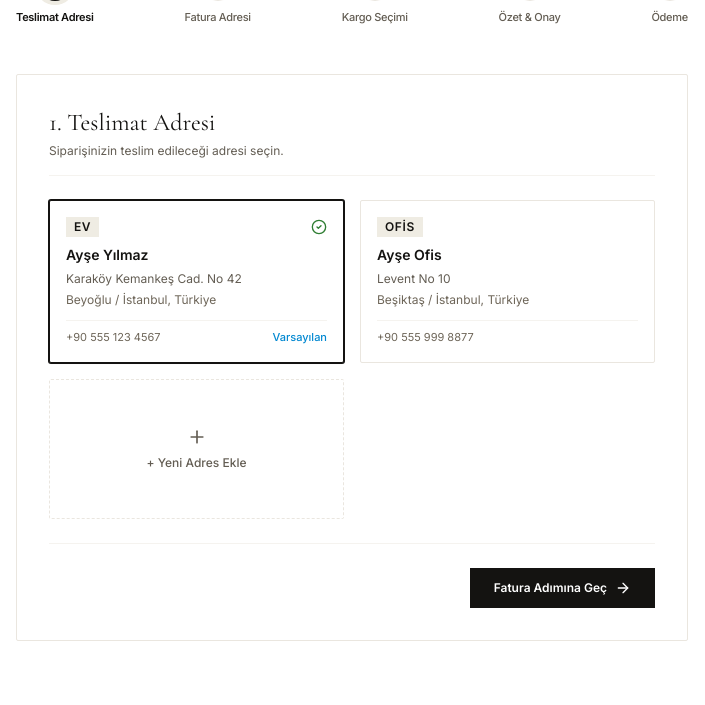
CheckoutPage Component › renders free shipping badge and step 3 navigation back to billing
(page scrolled)
Click the button "Fatura Adımına Geç" at [562, 588], box top-left (470, 568), bottom-right (655, 608)
(page scrolled)
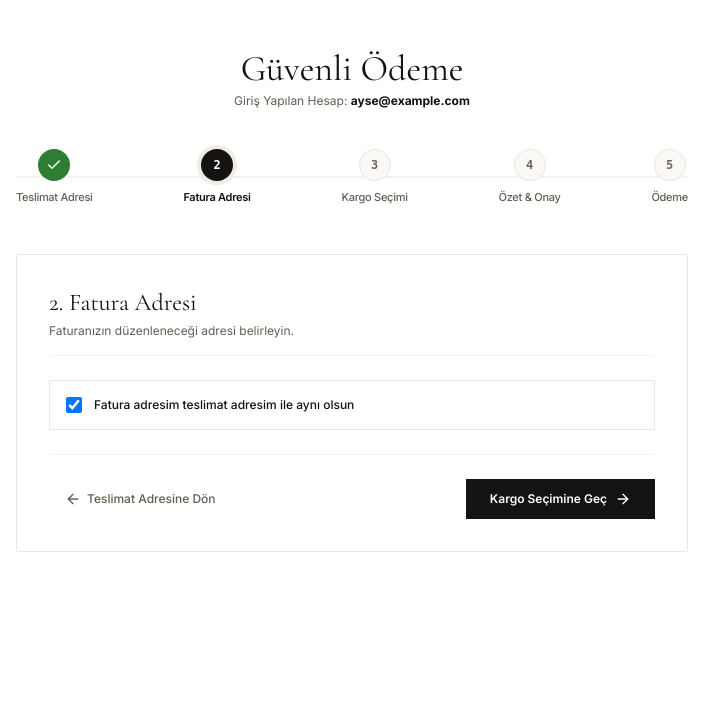
Click the button "Kargo Seçimine Geç" at [560, 498], box top-left (466, 478), bottom-right (655, 518)
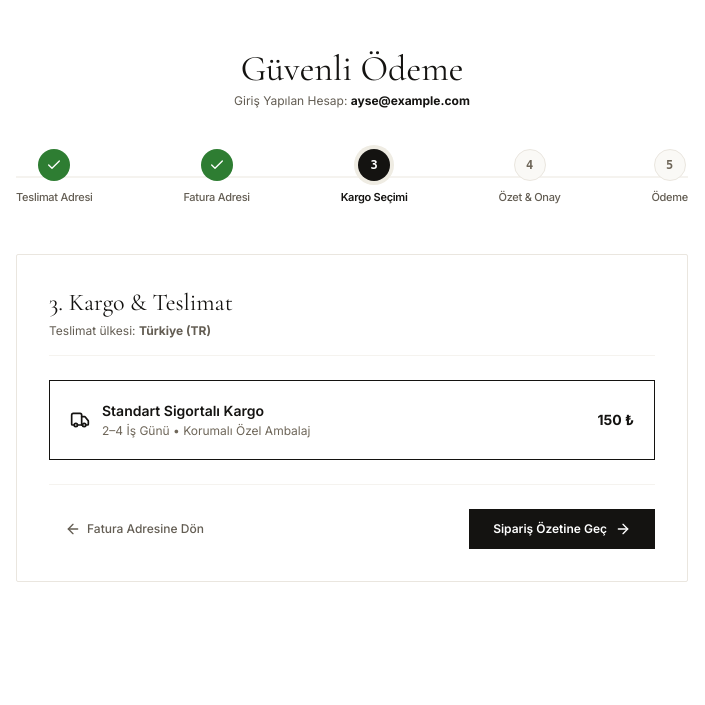
expect the heading "3. Kargo & Teslimat" is shown: met, box top-left (49, 288), bottom-right (233, 316)
expect the text "150 ₺" is shown: met, box top-left (598, 410), bottom-right (634, 430)
# Click "Fatura Adresine Dön"
Click the button "Fatura Adresine Dön" at [134, 528], box top-left (49, 508), bottom-right (220, 548)
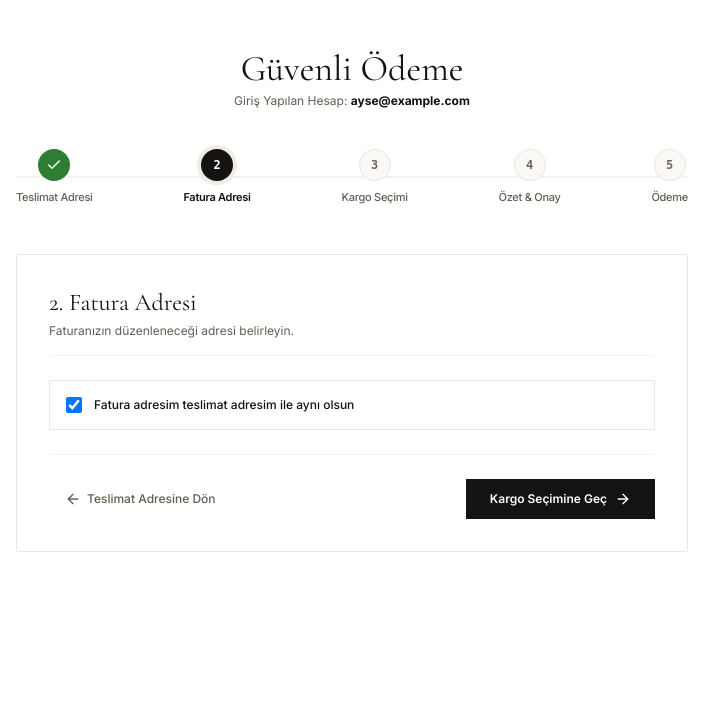
expect the heading "2. Fatura Adresi" is shown: met, box top-left (49, 288), bottom-right (197, 316)
# Click stepper step 1
Click the button named "Teslimat Adresi (Tamamlandı)" at [54, 165], box top-left (38, 149), bottom-right (70, 181)
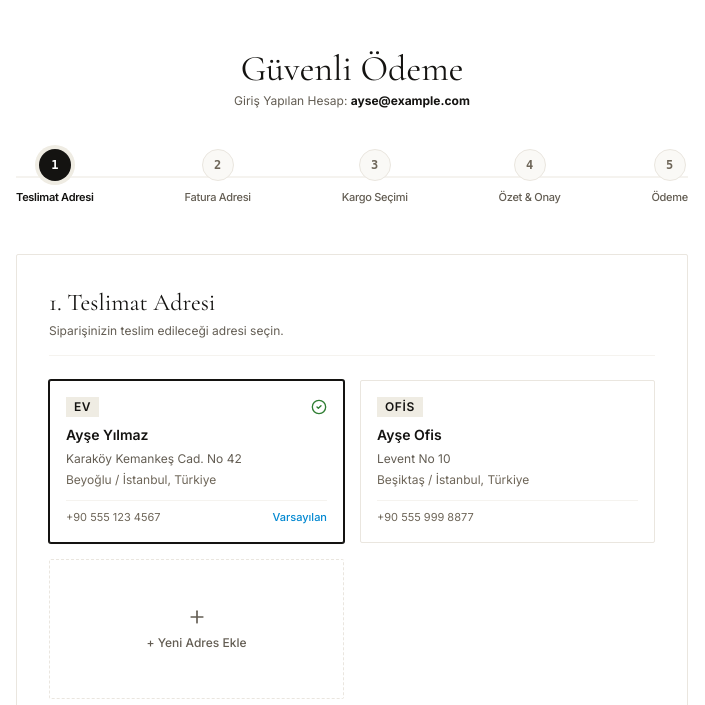
expect the heading "1. Teslimat Adresi" is shown: met, box top-left (49, 288), bottom-right (215, 316)
